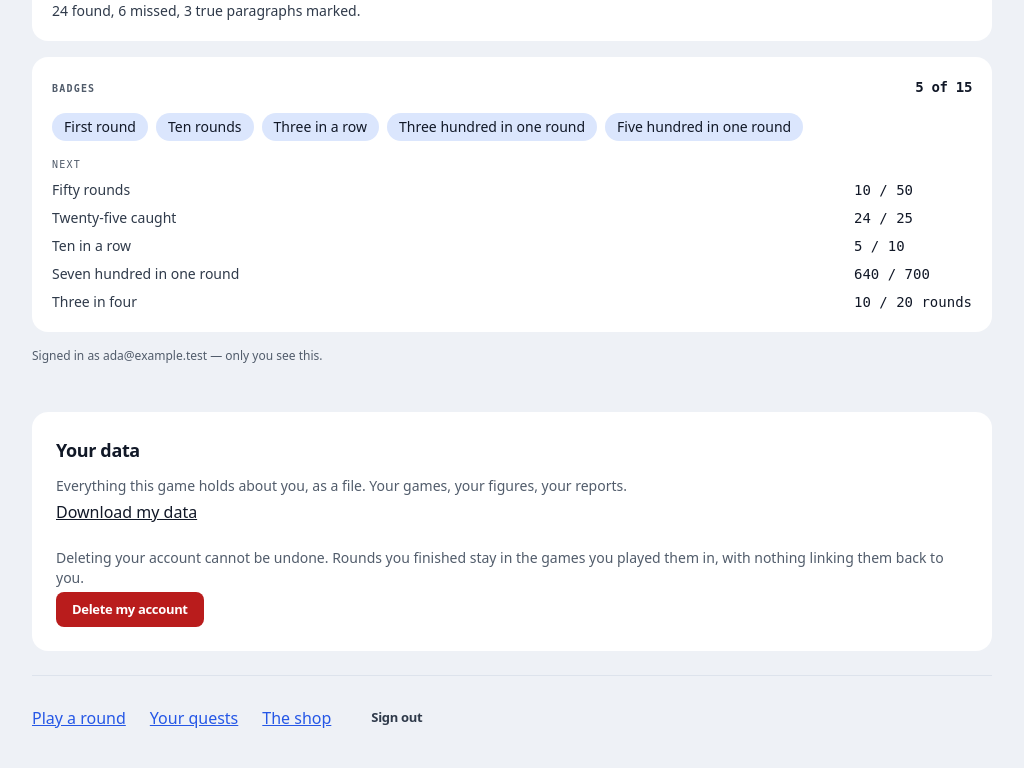
Test case: E.7 — your data › asks for the pseudonym before it will delete anything
(page scrolled)
Click the button "Delete my account": (130, 609) [56, 592, 204, 627]
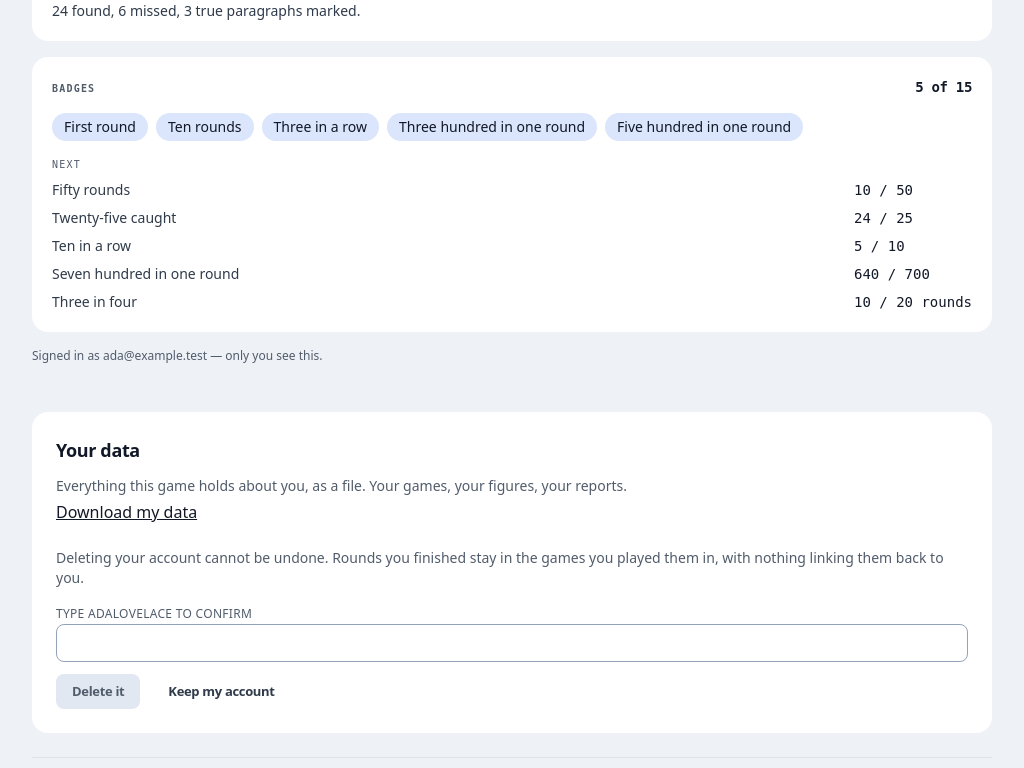
Check: the button "Delete it" is disabled, box [56, 674, 140, 709]
